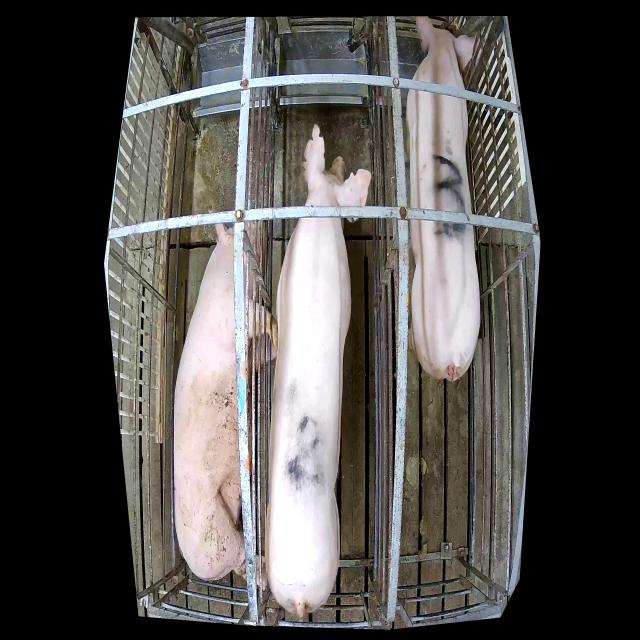pig: (265, 123, 372, 621), (174, 221, 277, 592), (405, 17, 480, 382)
